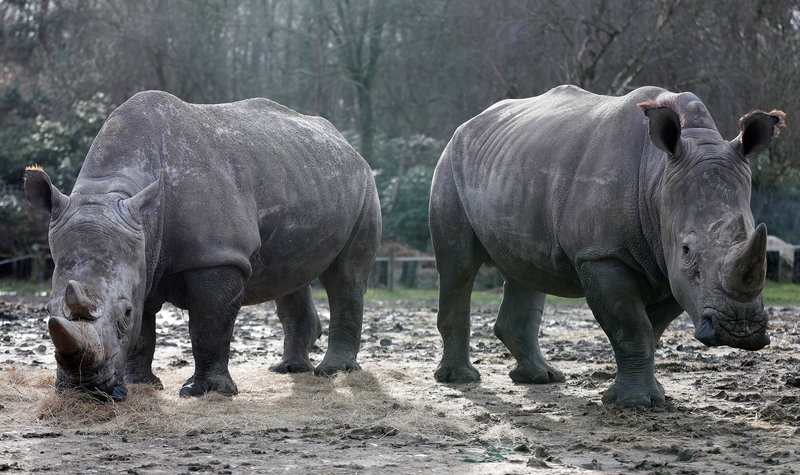rhino: (424, 80, 784, 413), (19, 88, 384, 397)
